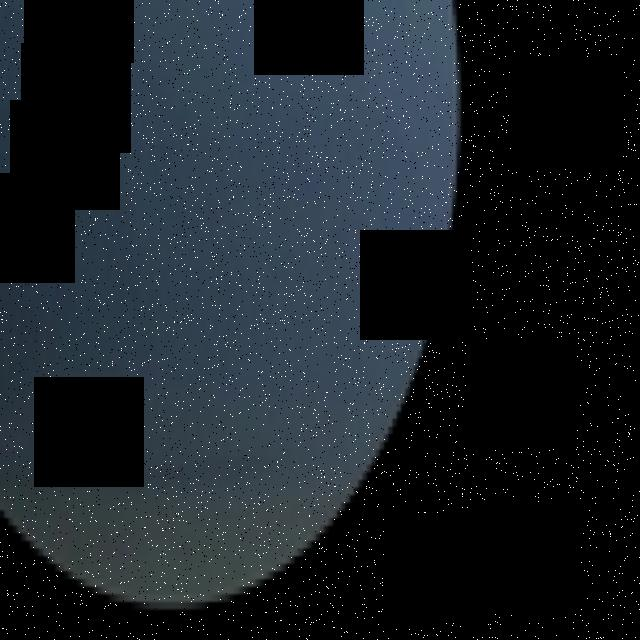Uranus: (0, 0, 461, 610)
